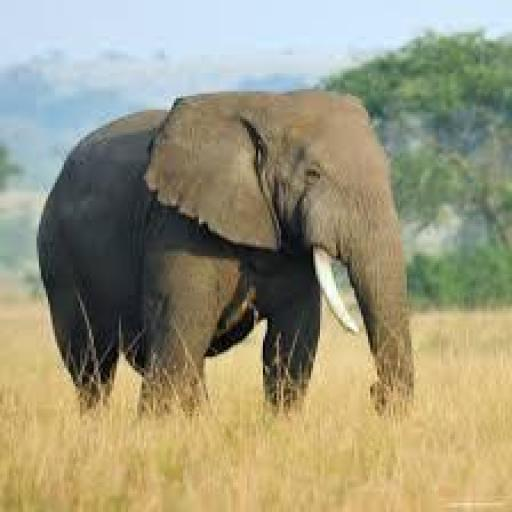Elephant: (25, 48, 454, 453)
